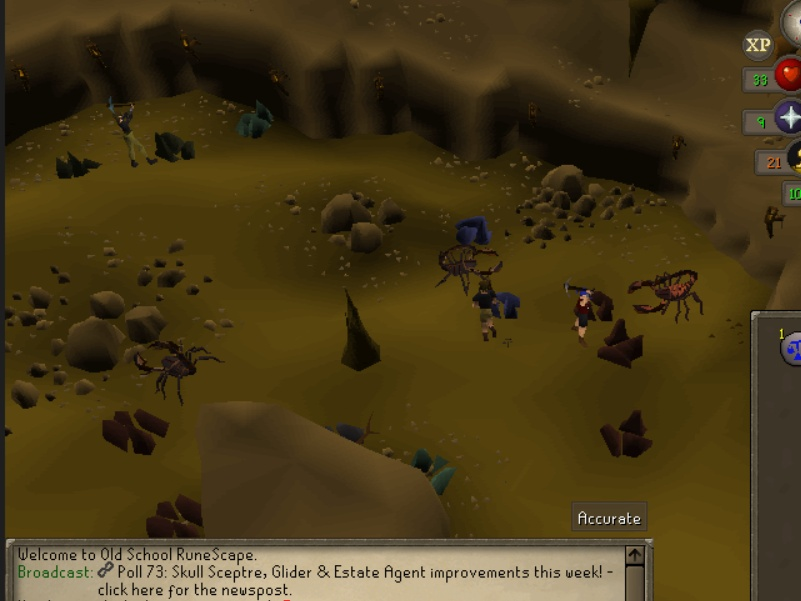adamant: (235, 96, 278, 141)
coal: (152, 127, 201, 168), (55, 142, 104, 183)
iron: (98, 396, 178, 463), (597, 407, 656, 464), (598, 315, 649, 372), (144, 491, 202, 536), (582, 290, 615, 323)
mithril: (451, 214, 496, 249), (483, 284, 528, 319)
